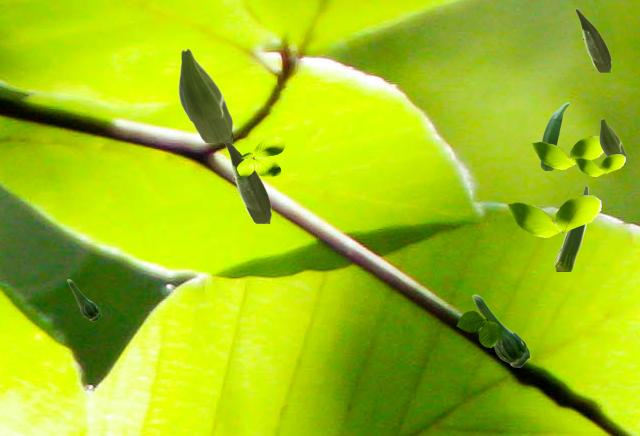okra: (178, 48, 231, 141), (472, 294, 529, 366), (223, 142, 270, 222), (554, 185, 587, 270), (575, 8, 610, 71), (540, 102, 568, 169), (67, 279, 100, 320), (599, 118, 624, 155)
